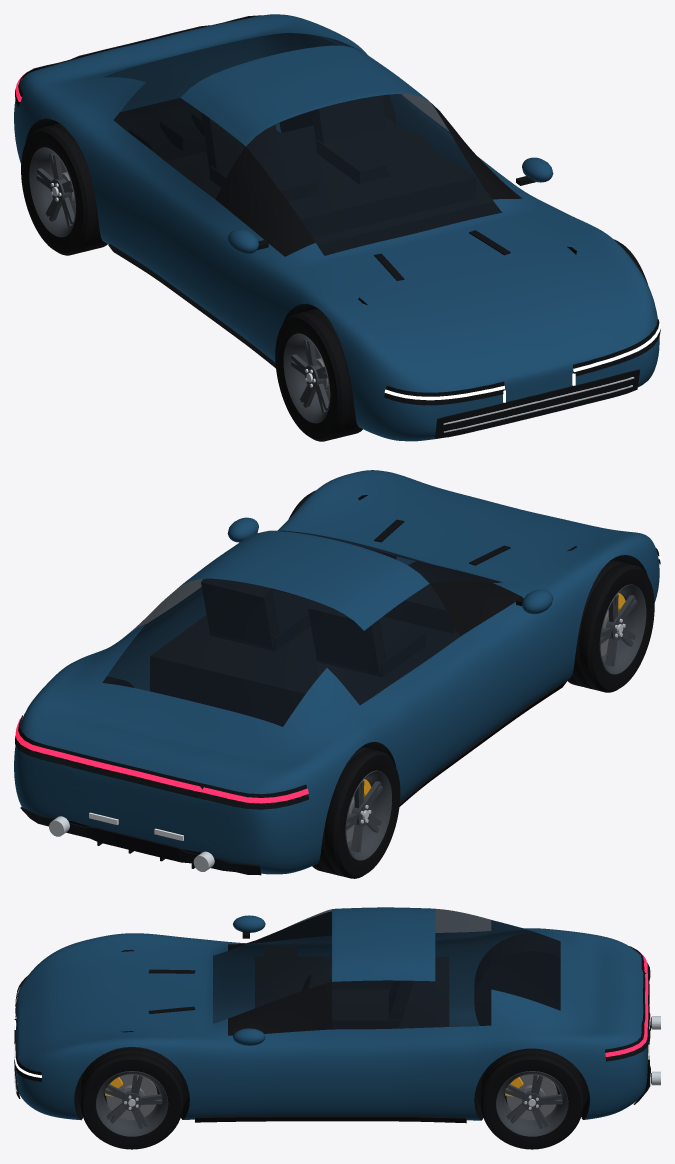
The model's file is sumo-gt.glb.
3 views of the same model, one above another, from view 1: azimuth 30°, elevation 25°; view 2: azimuth 150°, elevation 25°; view 3: azimuth 270°, elevation 25° (orthographic). The views are drawn at different scales.
Visible parts, largest first — view 1: body, glass, interior, trim, wheel_fr, wheel_rr, lights_front; view 2: body, glass, interior, trim, wheel_fr, wheel_rr, lights_rear; view 3: body, glass, trim, interior, wheel_fl, wheel_rl, lights_rear.
Boxes of the visible parts, bbox=[...] form: body: bbox=[14, 14, 659, 441]; glass: bbox=[103, 33, 501, 255]; interior: bbox=[166, 95, 499, 255]; trim: bbox=[15, 15, 660, 438]; wheel_fr: bbox=[275, 308, 362, 441]; wheel_rr: bbox=[21, 123, 107, 255]; lights_front: bbox=[384, 322, 660, 402]; body: bbox=[14, 470, 659, 874]; glass: bbox=[102, 530, 501, 726]; interior: bbox=[150, 578, 459, 726]; trim: bbox=[15, 495, 660, 875]; wheel_fr: bbox=[567, 559, 654, 692]; wheel_rr: bbox=[312, 746, 400, 878]; lights_rear: bbox=[15, 718, 308, 803]; body: bbox=[16, 907, 647, 1120]; glass: bbox=[213, 908, 560, 1029]; trim: bbox=[14, 911, 660, 1123]; interior: bbox=[255, 945, 449, 1029]; wheel_fl: bbox=[80, 1047, 183, 1149]; wheel_rl: bbox=[480, 1048, 583, 1149]; lights_rear: bbox=[605, 952, 648, 1056].
Size of what is drawn, in the model's own units: 2.02 by 1.24 by 4.53.
